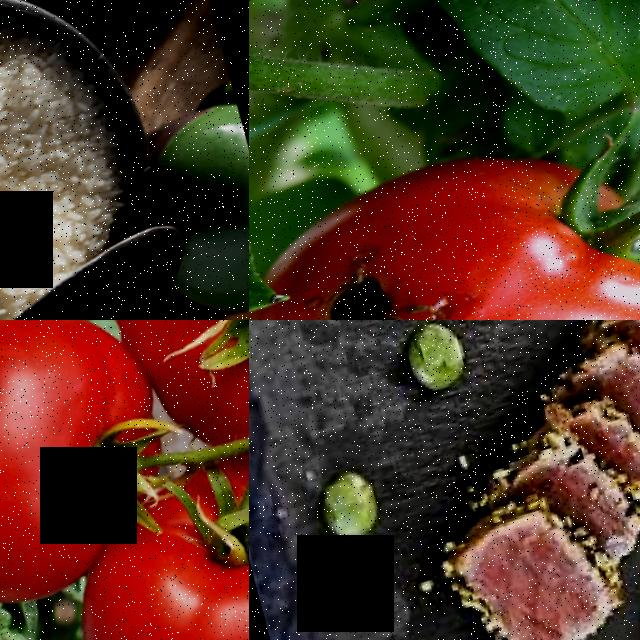tomato: (249, 89, 640, 320), (0, 320, 201, 639), (42, 424, 249, 640), (76, 320, 249, 456)
white rice: (0, 13, 123, 320)
